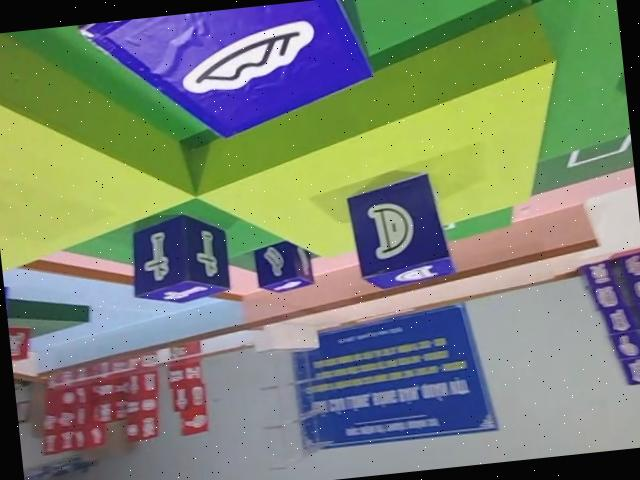R2 Real Blue: (71, 0, 377, 159), (347, 163, 456, 295), (127, 209, 237, 307), (252, 236, 316, 294)
